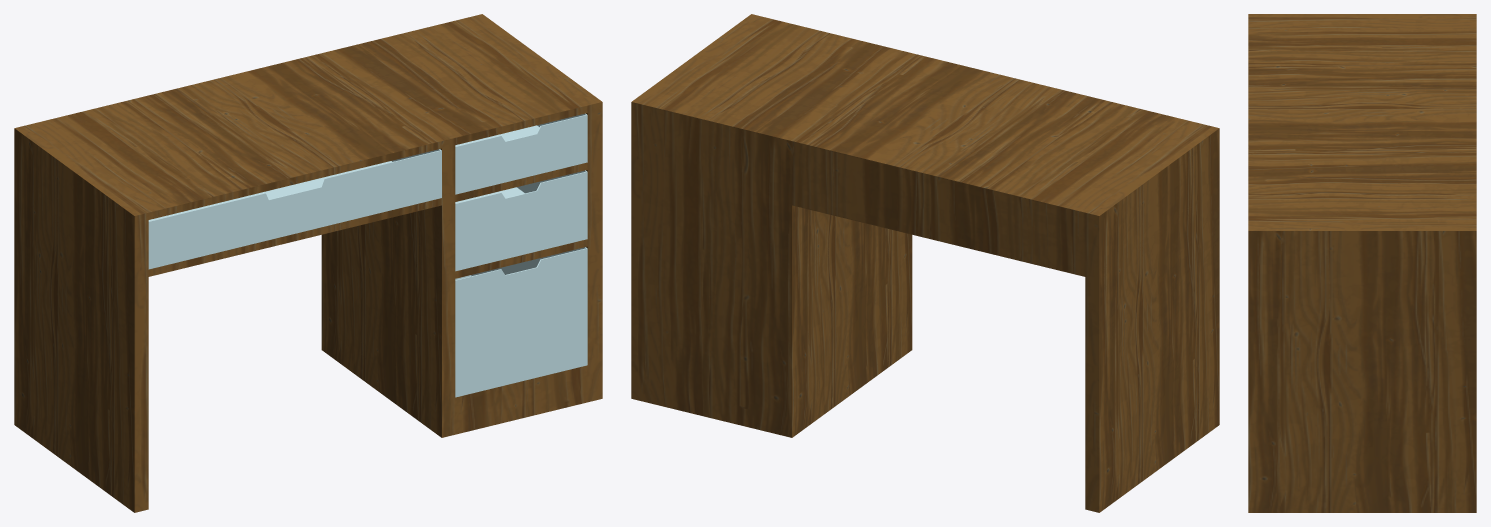
File: C_Desk.fbx
The picture shows the model from 3 angles, left to right: view 1: azimuth 30°, elevation 25°; view 2: azimuth 150°, elevation 25°; view 3: azimuth 270°, elevation 25°; orthographic projection. The views are drawn at different scales.
Visible parts, largest first — view 1: Desk, BottomRightDrawer, LeftDrawer, MiddleRightDrawer, TopRightDrawer; view 2: Desk; view 3: Desk.
Boxes of the visible parts, x1=… form: Desk: x1=14, y1=14, x2=602, y2=512; BottomRightDrawer: x1=455, y1=247, x2=587, y2=397; LeftDrawer: x1=148, y1=149, x2=441, y2=269; MiddleRightDrawer: x1=455, y1=170, x2=587, y2=271; TopRightDrawer: x1=455, y1=113, x2=587, y2=194; Desk: x1=631, y1=14, x2=1219, y2=512; Desk: x1=1248, y1=14, x2=1476, y2=512.
Bounding box in the file's own units: 4.95 × 3 × 2.2.
